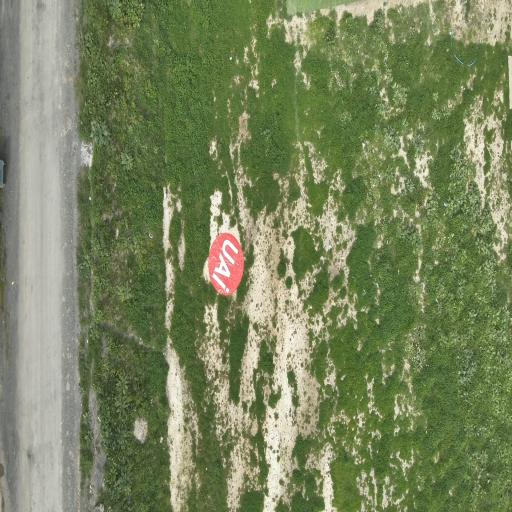uai: (208, 232, 244, 295)
